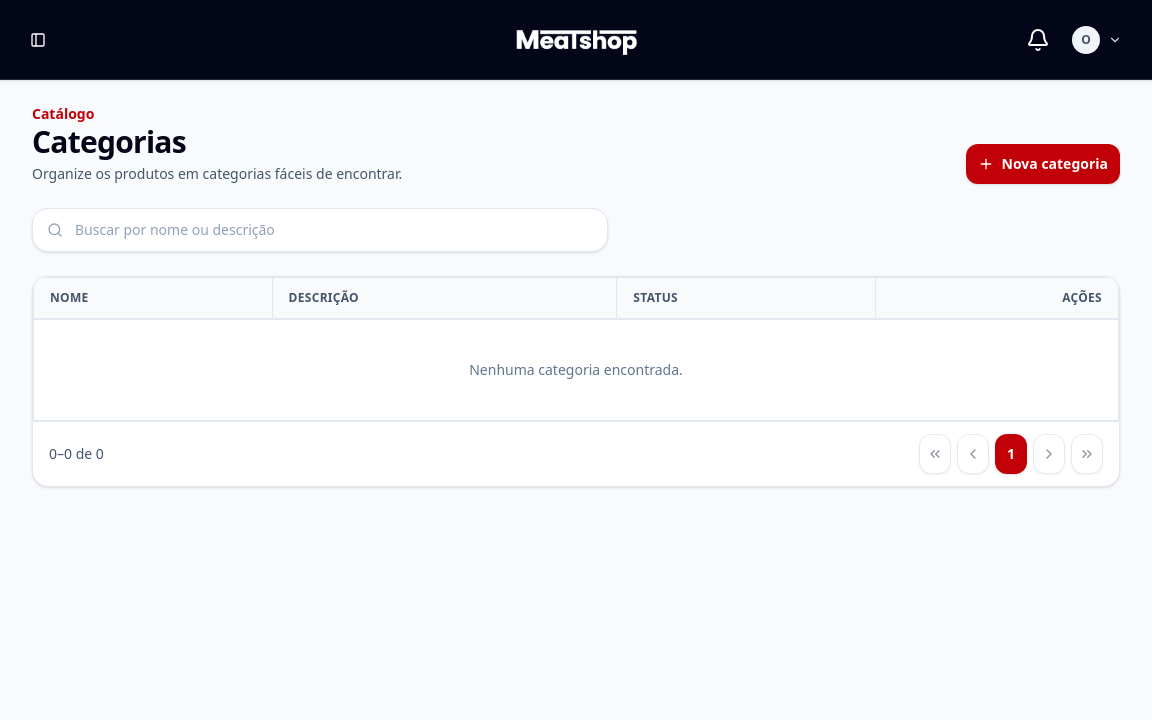
Scenario: Catalog form dialogs › creates a category through its labelled form
The image size is (1152, 720).
Click the button "Nova categoria".
click(1044, 164)  # box [966,144,1121,184]
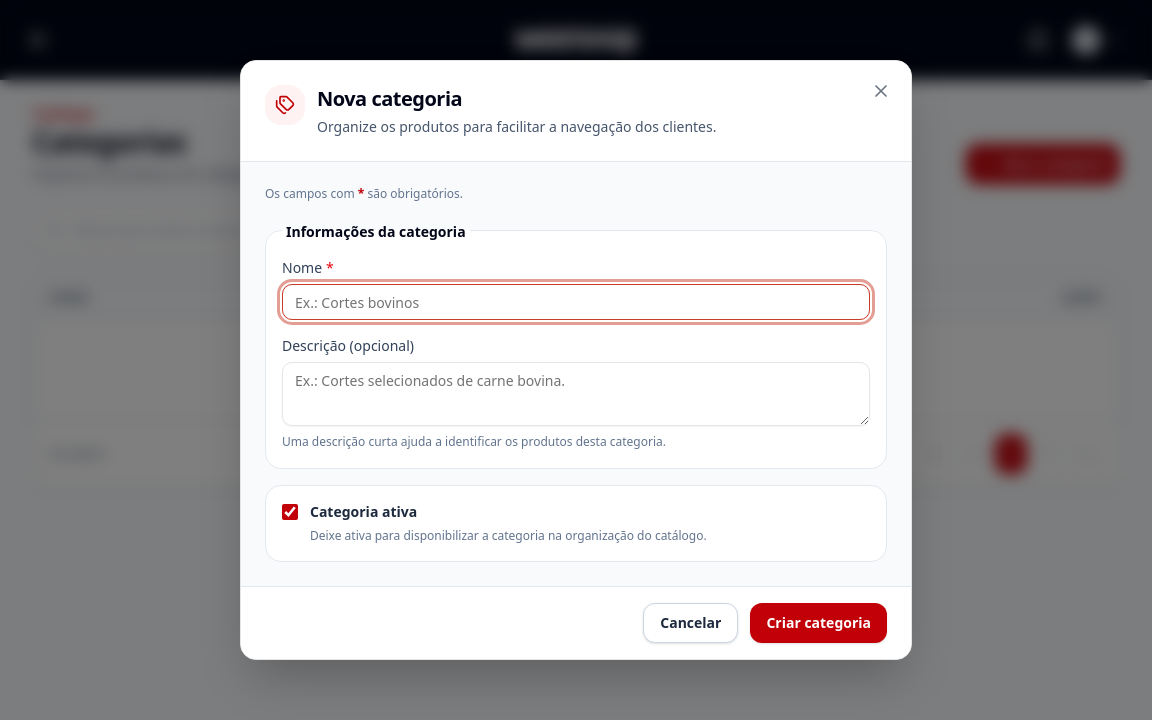
Type "Cortes especiais" into the field with placeholder "Ex.: Cortes bovinos".
click(576, 302); type("Cortes especiais")  # box [282,284,870,320]
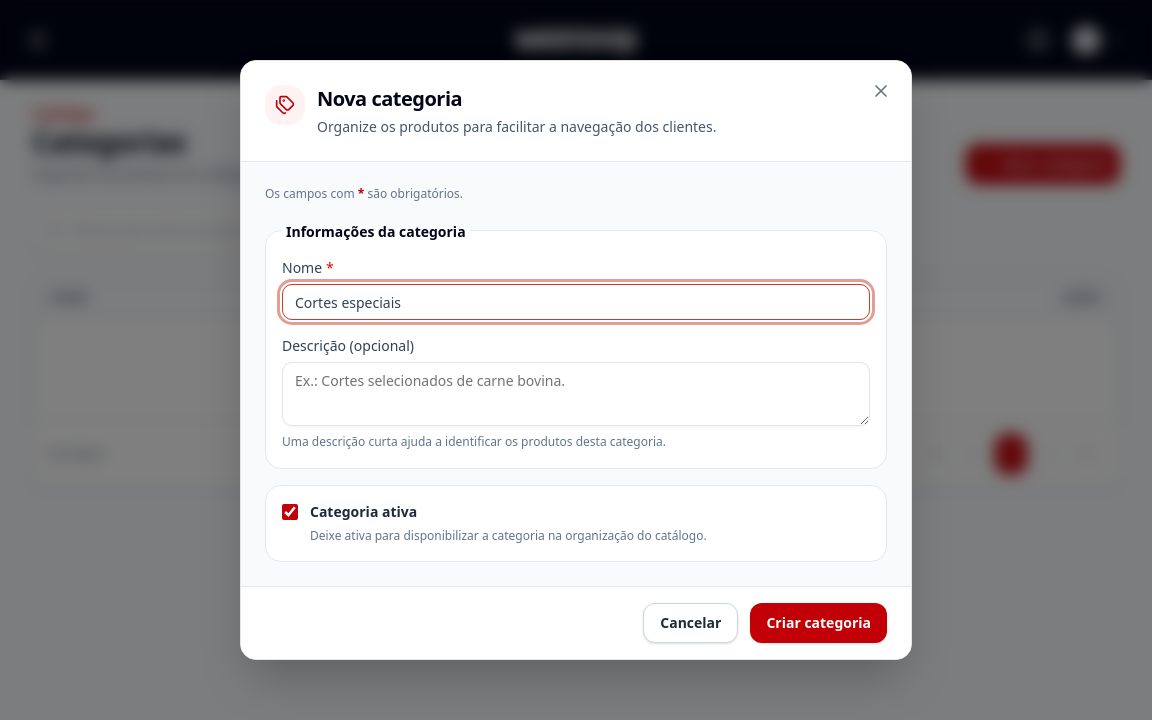
Click the button "Criar categoria".
click(819, 623)  # box [750,603,887,643]
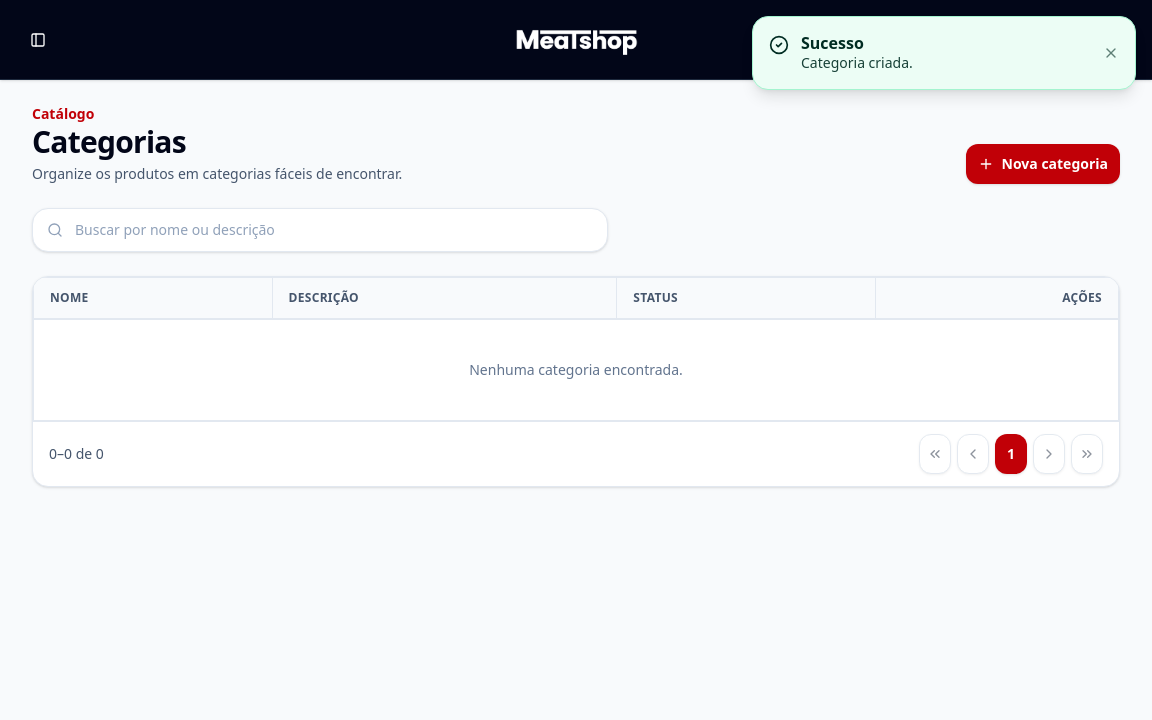
Now the dialog is gone
